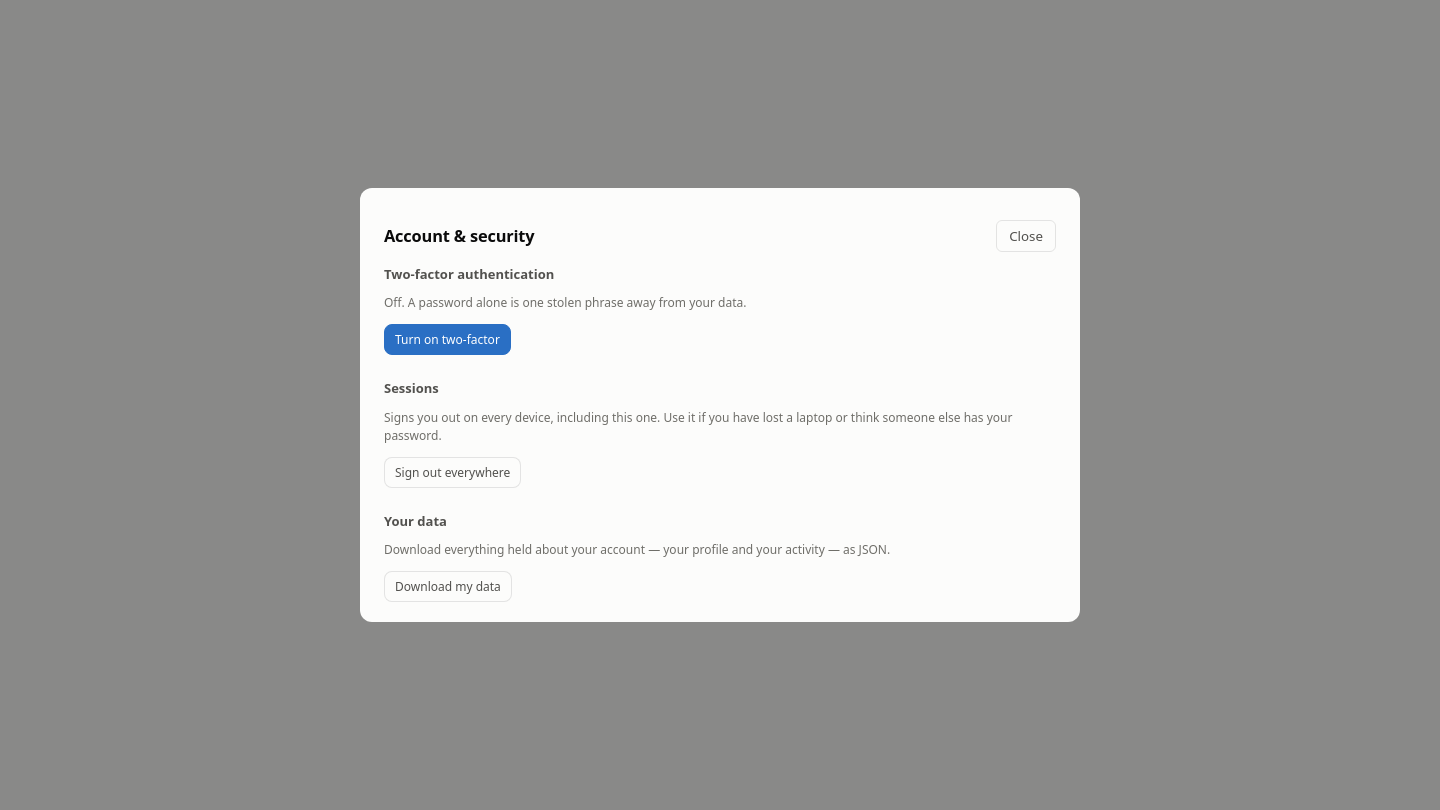
Test: SecurityDialog — two-factor enrolment › shows the setup key so it can be entered by hand
This screenshot has width=1440, height=810.
What coordinates should you click on to do the following:
click the button "Turn on two-factor"
I would click on:
 (447, 340)
Its box is [384,324,511,355].
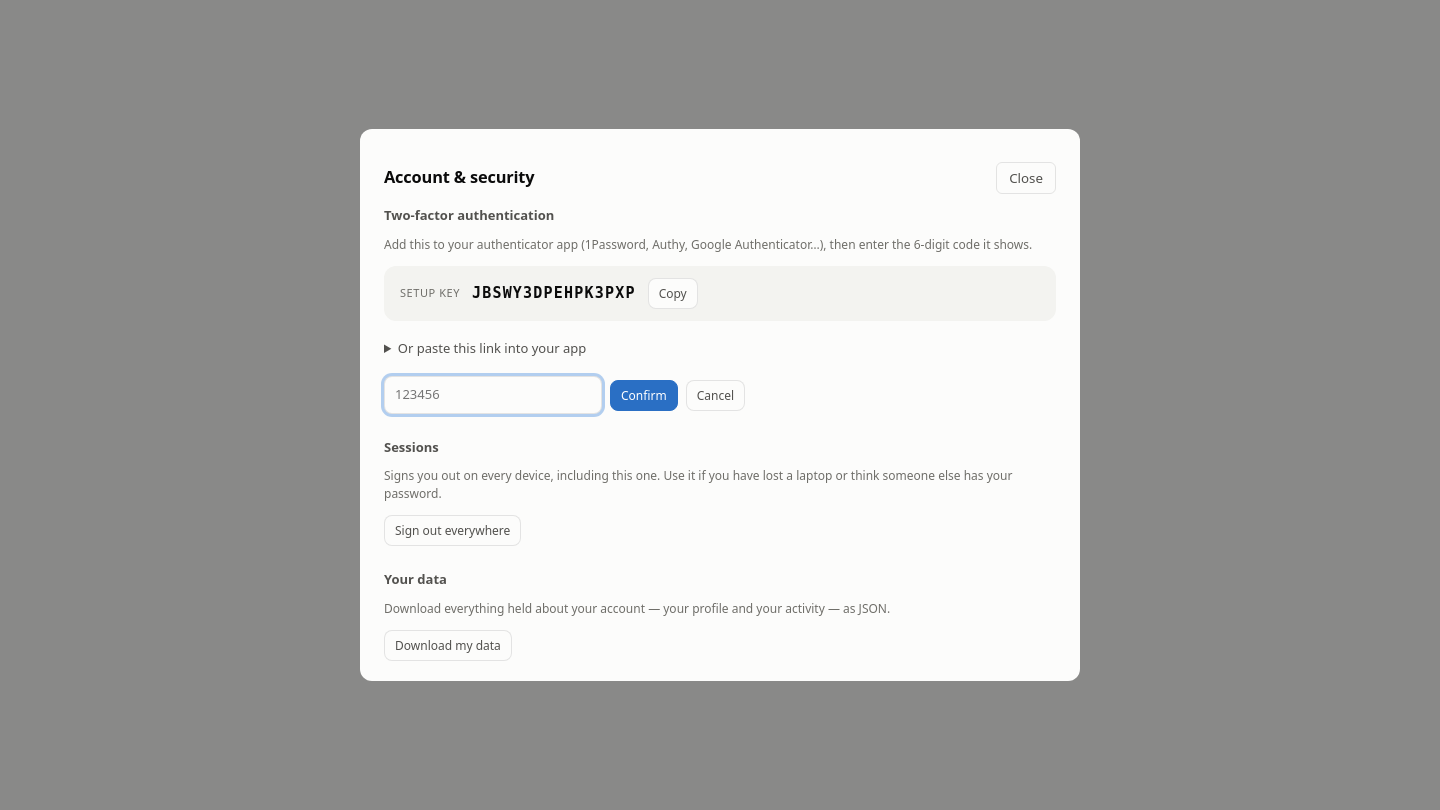
Now the text "JBSWY3DPEHPK3PXP" is shown, box [472,282,636,305]
